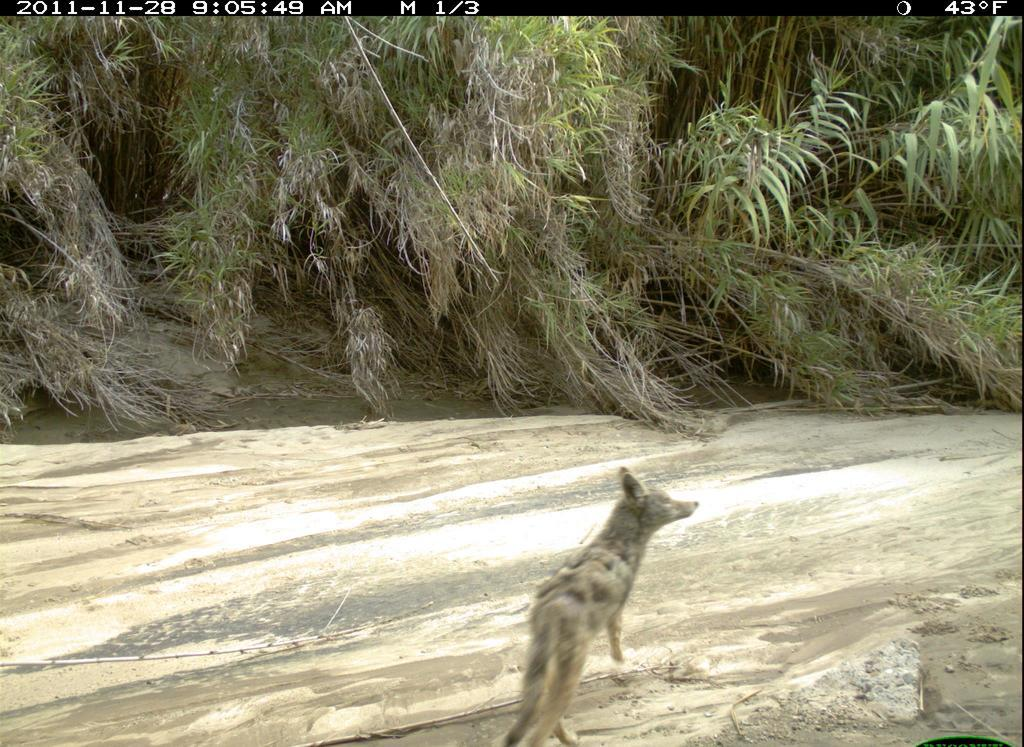coyote: (500, 464, 702, 747)
